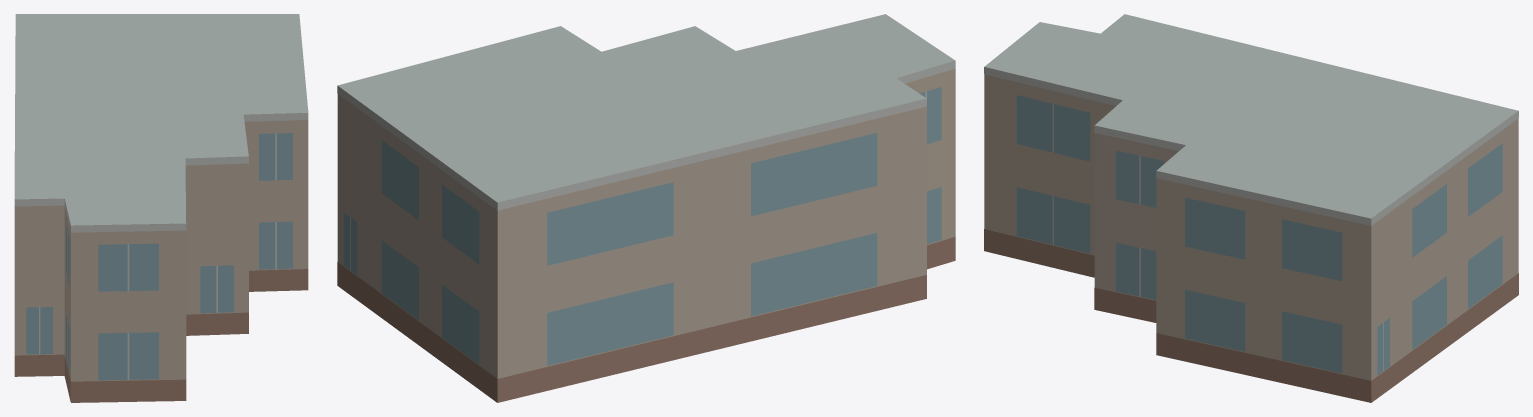
The model's file is survey-upis-32863505.glb.
3 views of the same model, side by side, from view 1: azimuth 30°, elevation 25°; view 2: azimuth 150°, elevation 25°; view 3: azimuth 270°, elevation 25° (orthographic). The views are drawn at different scales.
Parts seen in each view (by area): view 1: survey-upis-32863505.tmp; view 2: survey-upis-32863505.tmp; view 3: survey-upis-32863505.tmp.
Part boxes in pixels (x1,y1,x2,y2): survey-upis-32863505.tmp: (14,14,308,402); survey-upis-32863505.tmp: (337,14,955,402); survey-upis-32863505.tmp: (984,14,1518,402).
Bounding box in the file's own units: 14.54 × 6.1 × 16.05.
